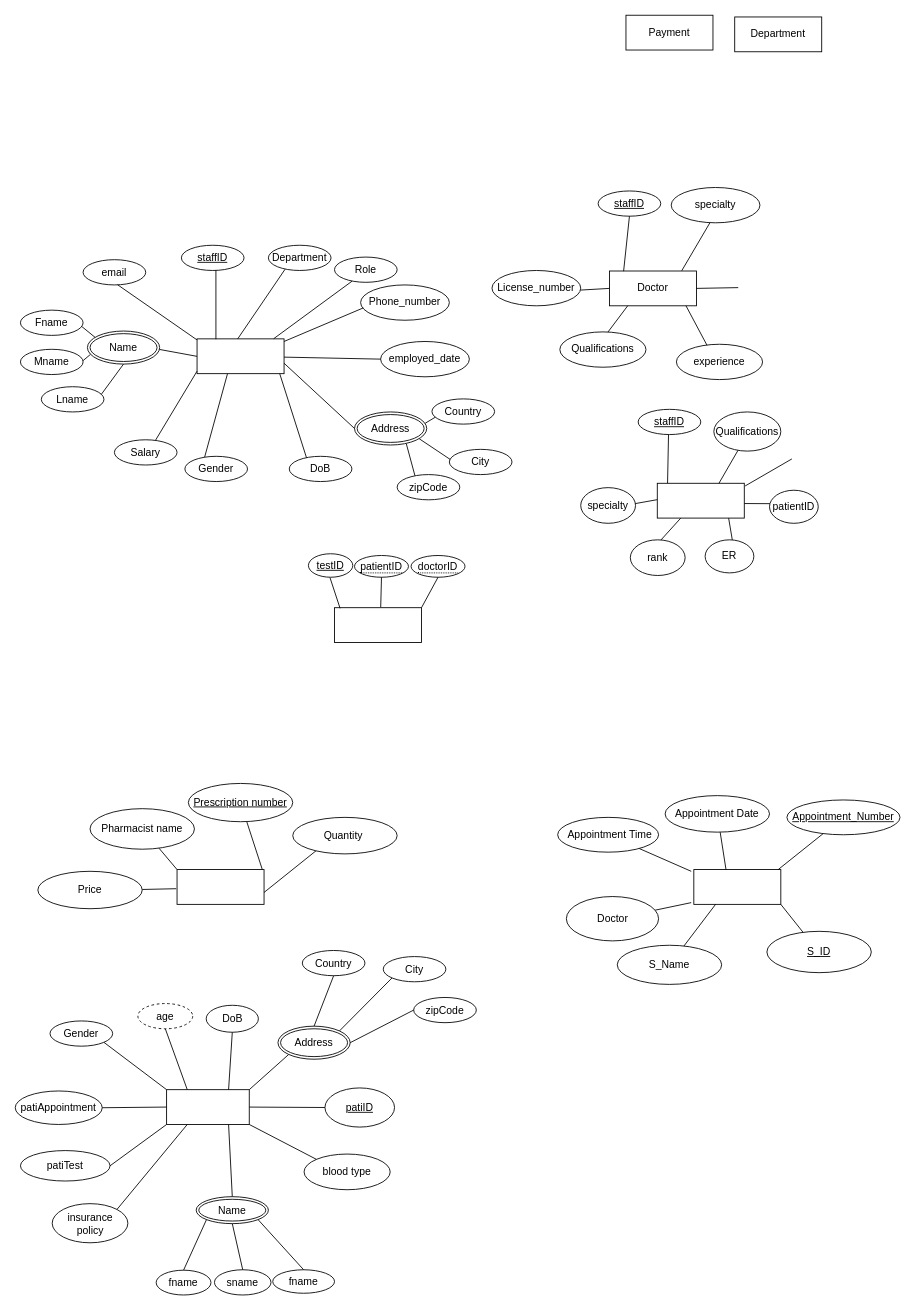
This 915x1310 diagram has some shape labels left out. Each missing label, with the centre of its shape:
"Appointments" goes at [737,886].
"Lab tests" goes at [378,624].
"Medicine" goes at [220,886].
"Nurse" goes at [700,500].
"Patient" goes at [207,1106].
"Staff" goes at [240,356].
